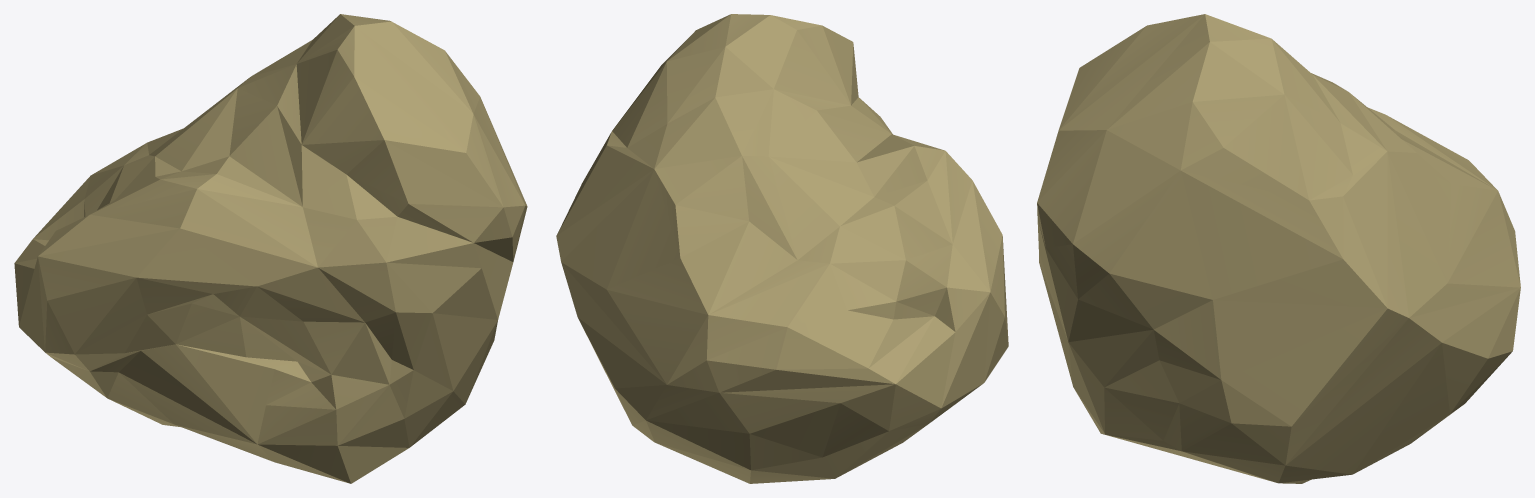
Rendered from SM_rock_74.fbx.
3 views of the same model, side by side, from view 1: azimuth 30°, elevation 25°; view 2: azimuth 150°, elevation 25°; view 3: azimuth 270°, elevation 25° (orthographic). The views are drawn at different scales.
Parts seen in each view (by area): view 1: rock_74; view 2: rock_74; view 3: rock_74.
Part boxes in pixels (x1,y1,x2,y2): rock_74: (14, 14, 527, 483); rock_74: (556, 14, 1008, 483); rock_74: (1037, 14, 1520, 483).
Bounding box in the file's own units: 327 × 306 × 298.
